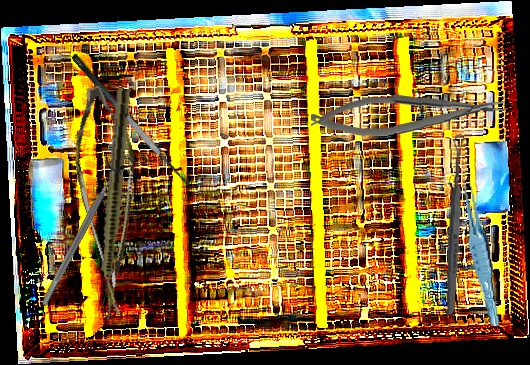Fixation Ring: (32, 155, 128, 312)
Handpiece: (94, 87, 132, 313)
Micro Scissor: (43, 81, 177, 321)
Needle Holder: (310, 90, 506, 140)
Spatula Surgical: (69, 43, 206, 198)
Surgical Spoon: (444, 133, 466, 316)
Tissue Forceps: (460, 173, 501, 329)
